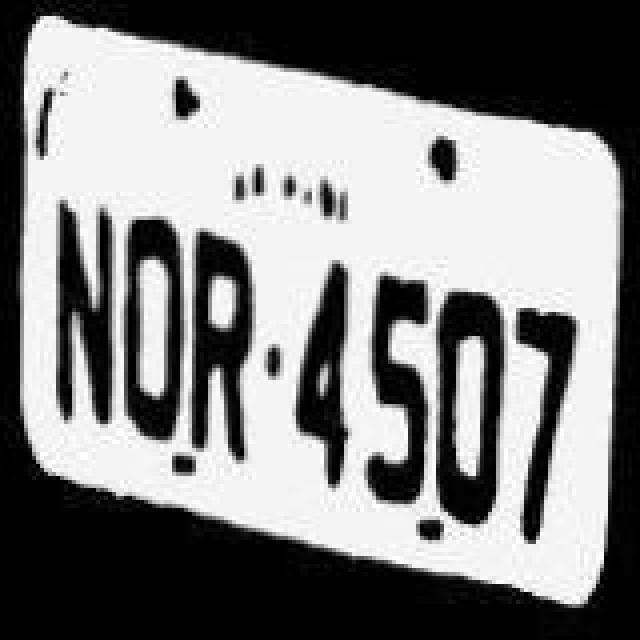4: (288, 244, 356, 504)
5: (364, 266, 432, 514)
7: (506, 288, 578, 560)
N: (44, 186, 120, 446)
O: (116, 198, 192, 450), (434, 276, 506, 528)
R: (190, 222, 262, 462)
